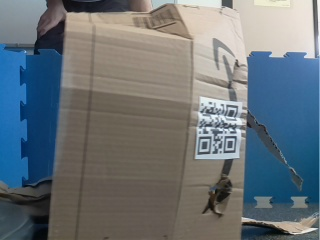caja_rota: (42, 6, 262, 240)
